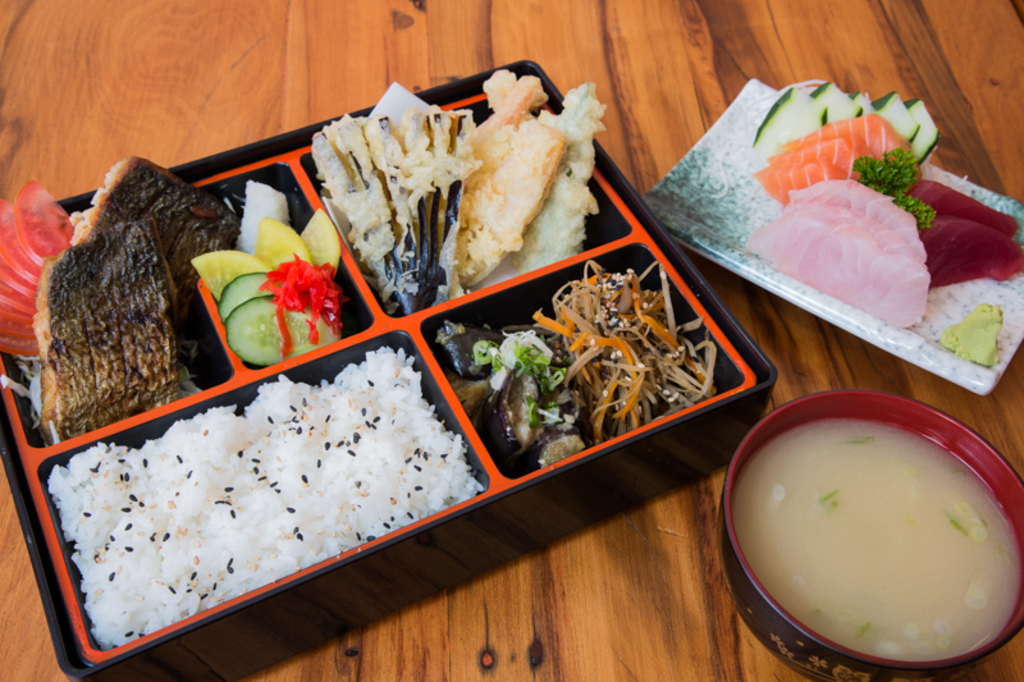sushi: (371, 90, 575, 299)
